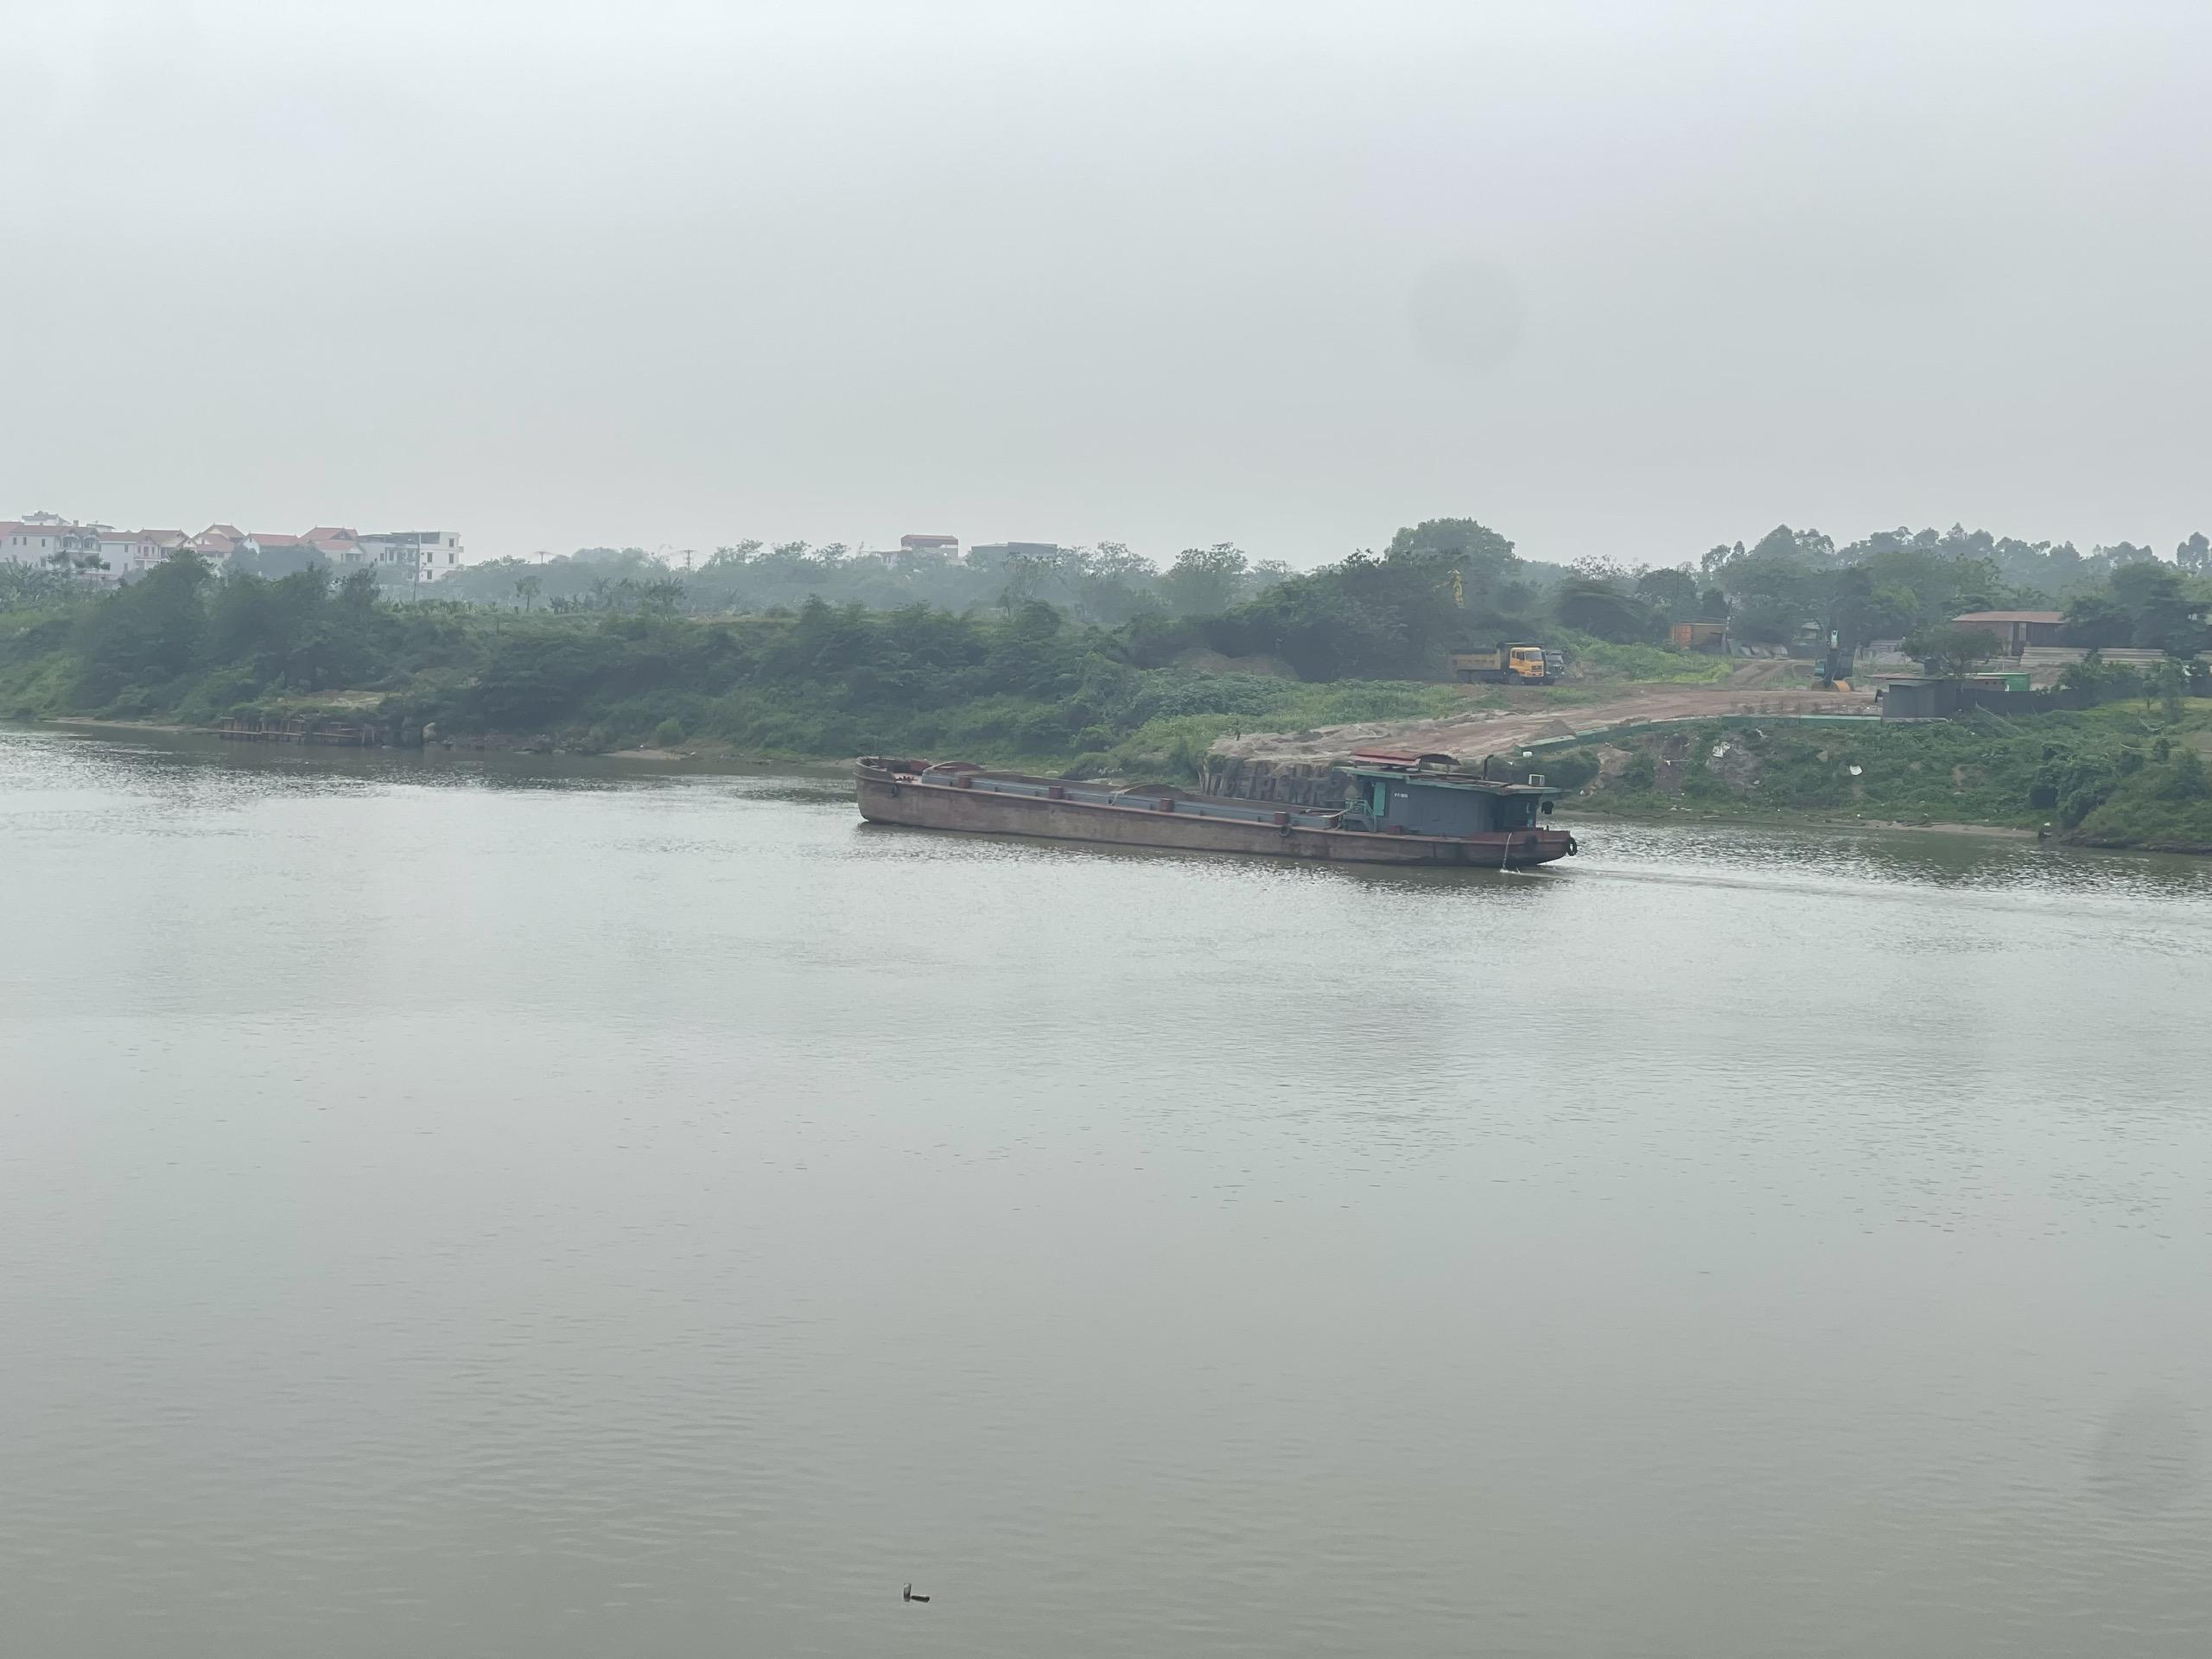Ship: (843, 727, 1590, 880)
